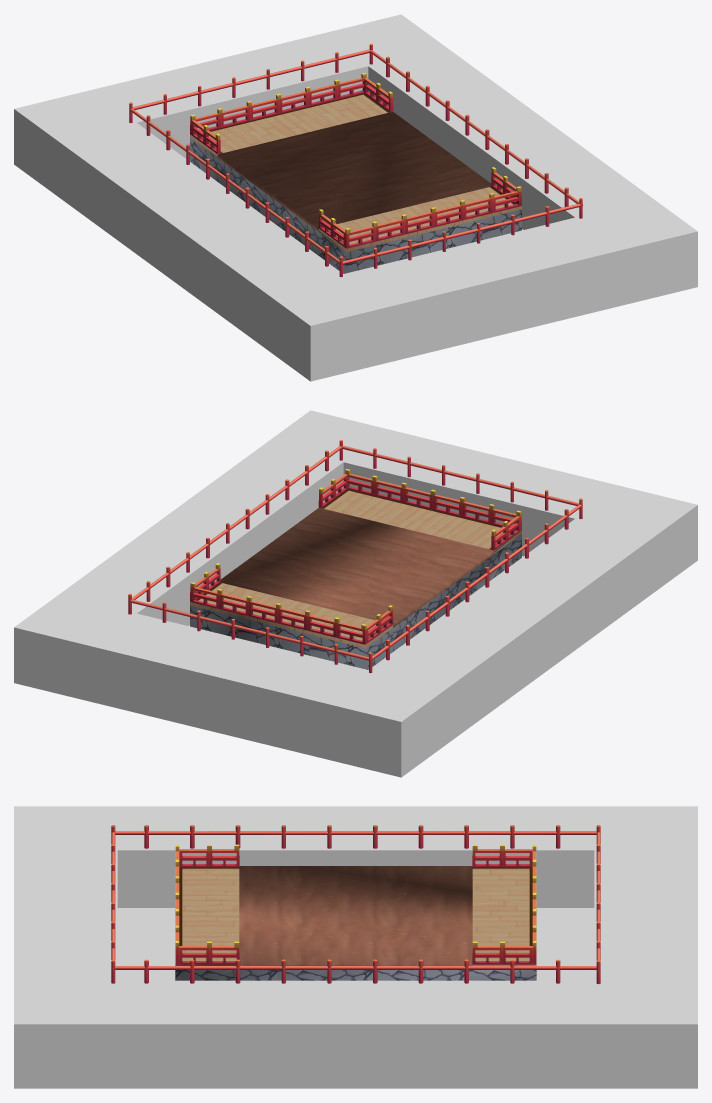
File: Duel_Stage 28.fbx
3 renders of one model, top to bottom at view 1: azimuth 30°, elevation 25°; view 2: azimuth 150°, elevation 25°; view 3: azimuth 270°, elevation 25°, orthographic. The views are drawn at different scales.
Parts seen in each view (by area): view 1: Plane_2.001, Plane_2, Cube.039, Cube.043; view 2: Plane_2.001, Plane_2, Cube.039, Cube.043; view 3: Plane_2.001, Plane_2, Cube.043, Cube.039, Cube.038.
Part boxes in pixels (x1,y1,x2,y2): Plane_2.001: [14, 14, 697, 381]; Plane_2: [190, 94, 521, 273]; Cube.039: [190, 73, 521, 248]; Cube.043: [129, 43, 582, 277]; Plane_2.001: [14, 410, 697, 777]; Plane_2: [190, 490, 521, 669]; Cube.039: [190, 469, 521, 644]; Cube.043: [128, 440, 582, 673]; Plane_2.001: [14, 806, 697, 1088]; Plane_2: [175, 866, 536, 980]; Cube.043: [111, 825, 600, 984]; Cube.039: [175, 844, 536, 964]; Cube.038: [179, 867, 532, 945].
Size of the model in its own units: 7285 by 1346 by 9661.
